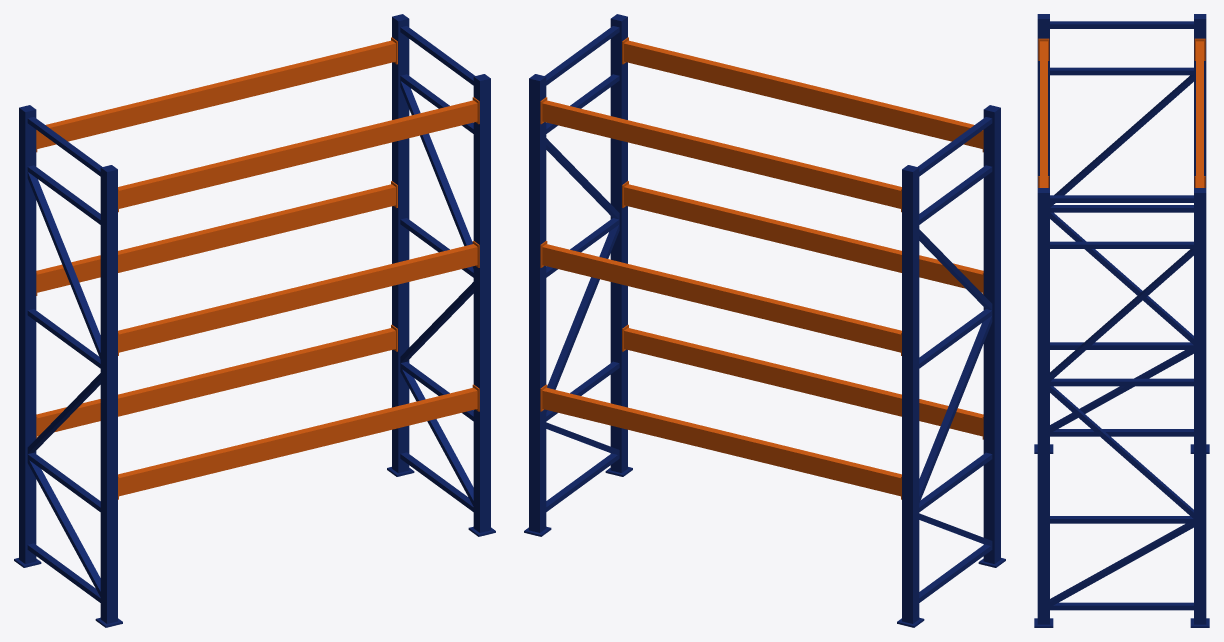
File: pallet-rack.glb
The picture shows the model from 3 angles, left to right: view 1: azimuth 30°, elevation 25°; view 2: azimuth 150°, elevation 25°; view 3: azimuth 270°, elevation 25°; orthographic projection. The views are drawn at different scales.
Parts seen in each view (by area): view 1: Geom.018, Geom.020, Geom.038, Geom.016, Geom.021, Geom.039, Geom.019, Geom.040, Geom.017, Geom.041, Geom.024, Geom.027 (+11 smaller); view 2: Geom.019, Geom.021, Geom.040, Geom.017, Geom.020, Geom.041, Geom.016, Geom.038, Geom.018, Geom.039, Geom.023, Geom.026 (+9 smaller); view 3: Geom.039, Geom.041, Geom.026, Geom.027, Geom.024, Geom.023, Geom.025, Geom.031, Geom.035, Geom.033, Geom.020, Geom.021 (+10 smaller).
Part boxes in pixels (x1,y1,x2,y2): Geom.018: (118,244,477,352); Geom.020: (118,100,477,208); Geom.038: (100,165,117,623); Geom.016: (118,387,477,496); Geom.021: (37,40,395,148); Geom.039: (473,74,490,532); Geom.019: (36,184,395,292); Geom.040: (19,105,36,563); Geom.017: (36,328,395,436); Geom.041: (392,14,409,472); Geom.024: (27,172,100,359); Geom.027: (400,81,473,268); Geom.019: (542,244,901,352); Geom.021: (542,100,901,208); Geom.040: (902,165,919,623); Geom.017: (542,387,901,496); Geom.020: (624,40,982,148); Geom.041: (529,74,546,532); Geom.016: (624,328,983,436); Geom.038: (983,105,1000,563); Geom.018: (624,184,983,292); Geom.039: (610,14,627,472); Geom.023: (919,315,992,502); Geom.026: (546,224,619,412); Geom.039: (1037,188,1049,624); Geom.041: (1194,188,1206,624); Geom.026: (1050,386,1193,518); Geom.027: (1050,249,1193,381); Geom.024: (1050,75,1193,207); Geom.023: (1050,212,1193,344); Geom.025: (1050,522,1193,606); Geom.031: (1050,67,1193,75); Geom.035: (1050,378,1193,386); Geom.033: (1050,602,1193,610); Geom.020: (1040,41,1047,187); Geom.021: (1196,41,1203,187).
Size of the model in its own units: 2.7 by 3 by 1.1.
